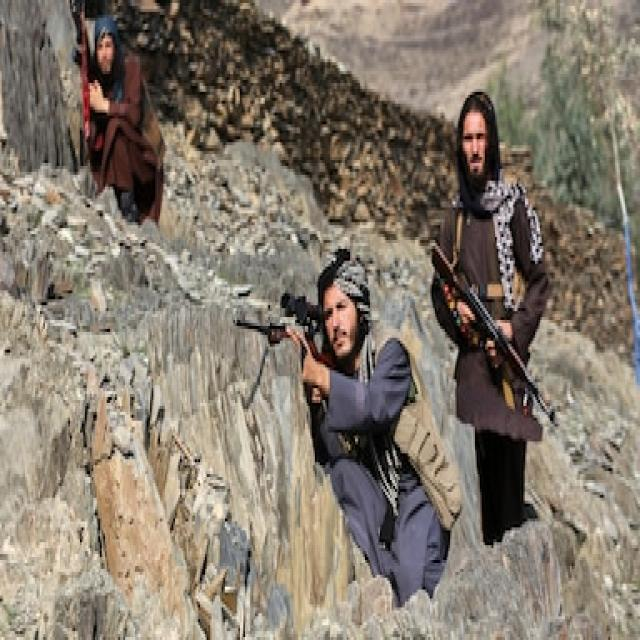Militant: (256, 216, 458, 640), (428, 68, 563, 583), (57, 12, 188, 324)
